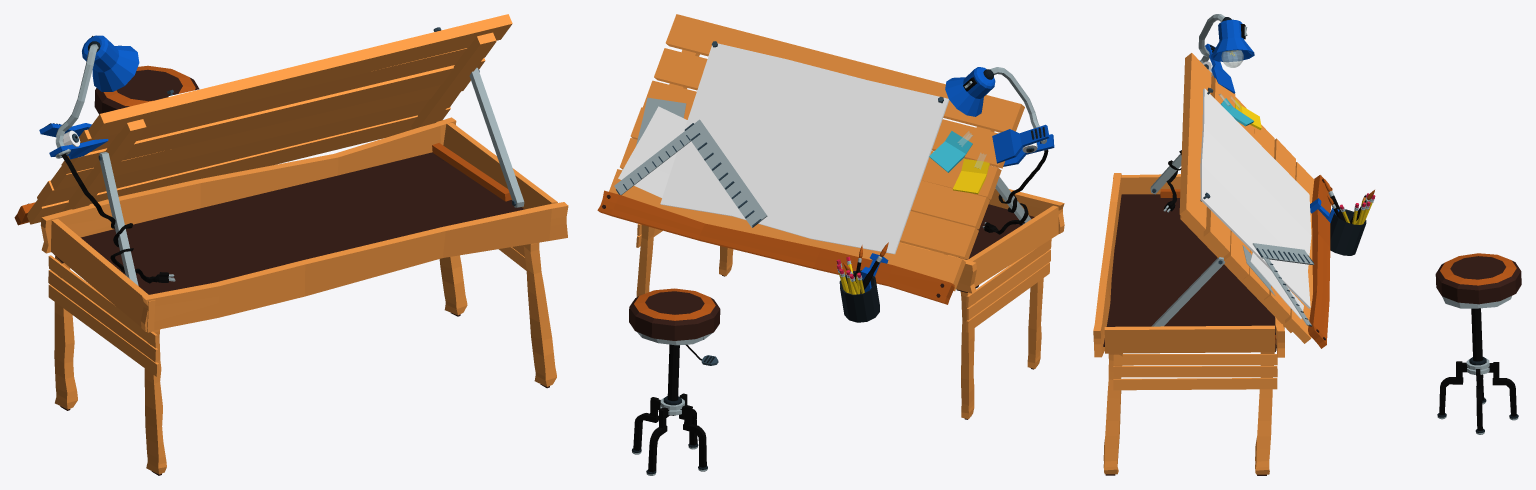
Rendered from Drafting Table.obj.
The picture shows the model from 3 angles, left to right: view 1: azimuth 30°, elevation 25°; view 2: azimuth 150°, elevation 25°; view 3: azimuth 270°, elevation 25°; orthographic projection. The views are drawn at different scales.
Visible parts, largest first — view 1: group1231310002, group578319498, group1701808643, group911007008, group1129415776, group1044600959, group521360608, group79405849, group665068937, group1723814382, group1485151735, group678068503 (+6 smaller); view 2: group503491970, group1231310002, group79405849, group1232870484, group1129415776, group1044600959, group805484270, group1954632107, group988883906, group1723814382, group578319498, group1485151735 (+10 smaller); view 3: group578319498, group503491970, group1231310002, group79405849, group665068937, group1232870484, group1129415776, group1701808643, group988883906, group955171567, group153358365, group1839266650 (+6 smaller).
Boxes of the visible parts, x1=… form: group1231310002: x1=27, y1=14, x2=512, y2=224; group578319498: x1=81, y1=152, x2=524, y2=294; group1701808643: x1=141, y1=202, x2=568, y2=331; group911007008: x1=40, y1=117, x2=456, y2=253; group1129415776: x1=39, y1=35, x2=175, y2=283; group1044600959: x1=51, y1=219, x2=155, y2=332; group521360608: x1=523, y1=242, x2=556, y2=388; group79405849: x1=94, y1=65, x2=199, y2=114; group665068937: x1=443, y1=123, x2=557, y2=209; group1723814382: x1=54, y1=254, x2=77, y2=410; group1485151735: x1=144, y1=329, x2=166, y2=475; group678068503: x1=48, y1=270, x2=158, y2=362; group503491970: x1=660, y1=43, x2=949, y2=254; group1231310002: x1=609, y1=14, x2=1024, y2=291; group79405849: x1=629, y1=288, x2=720, y2=475; group1232870484: x1=597, y1=190, x2=954, y2=304; group1129415776: x1=945, y1=67, x2=1054, y2=234; group1044600959: x1=967, y1=205, x2=1062, y2=286; group805484270: x1=618, y1=106, x2=687, y2=197; group1954632107: x1=684, y1=119, x2=767, y2=227; group988883906: x1=836, y1=242, x2=888, y2=322; group1723814382: x1=956, y1=285, x2=978, y2=419; group578319498: x1=959, y1=204, x2=1034, y2=259; group1485151735: x1=1027, y1=252, x2=1045, y2=369; group578319498: x1=1103, y1=194, x2=1276, y2=348; group503491970: x1=1200, y1=88, x2=1311, y2=308; group1231310002: x1=1179, y1=53, x2=1314, y2=343; group79405849: x1=1435, y1=253, x2=1521, y2=434; group665068937: x1=1104, y1=325, x2=1275, y2=353; group1232870484: x1=1308, y1=175, x2=1332, y2=348; group1129415776: x1=1163, y1=14, x2=1254, y2=212; group1701808643: x1=1093, y1=173, x2=1121, y2=357; group988883906: x1=1310, y1=178, x2=1375, y2=255; group955171567: x1=1113, y1=378, x2=1277, y2=390; group153358365: x1=1113, y1=366, x2=1277, y2=377; group1839266650: x1=1113, y1=354, x2=1277, y2=365.
Bounding box in the file's own units: 5.69 × 4.72 × 5.75.
